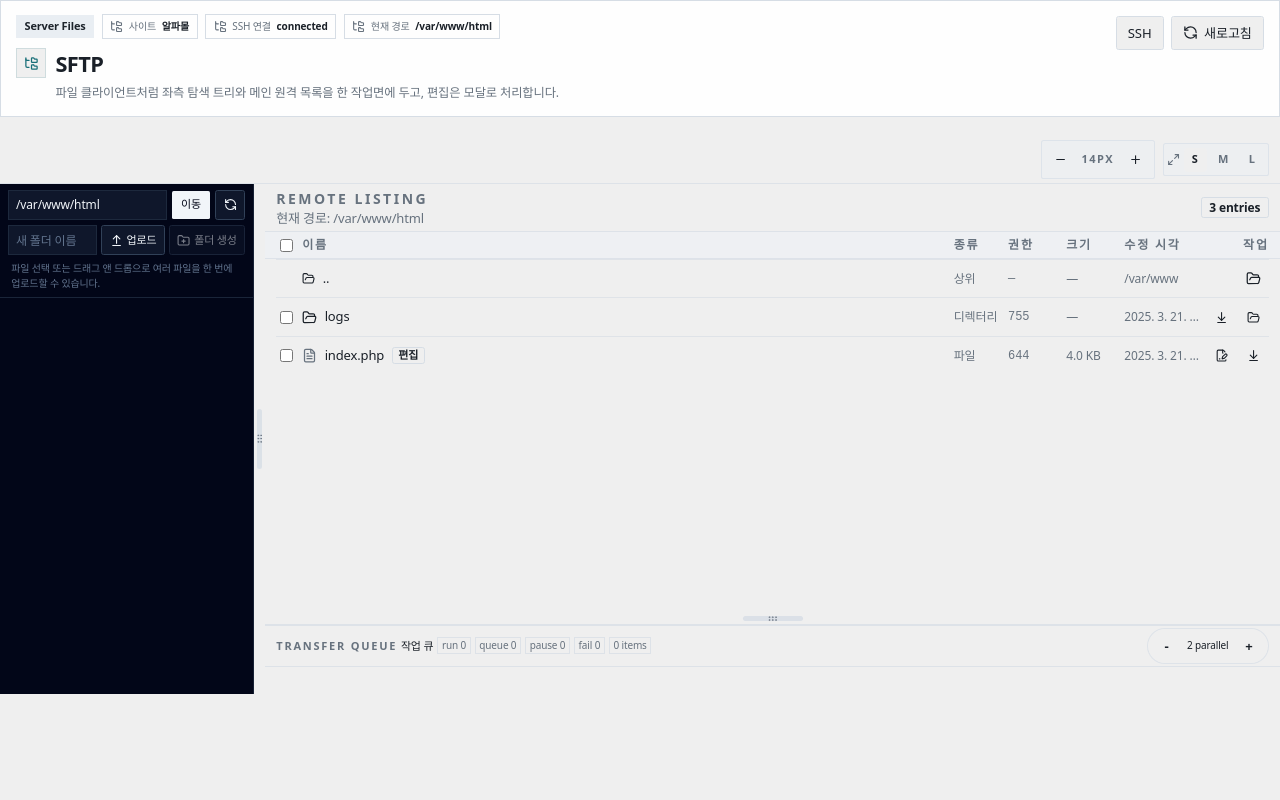
Test: SiteSftpBrowserPage › opens the selected file in the modal editor
Click the button named "index.php 편집": (1222, 356) top-left (1207, 341), bottom-right (1237, 371)
(page scrolled)
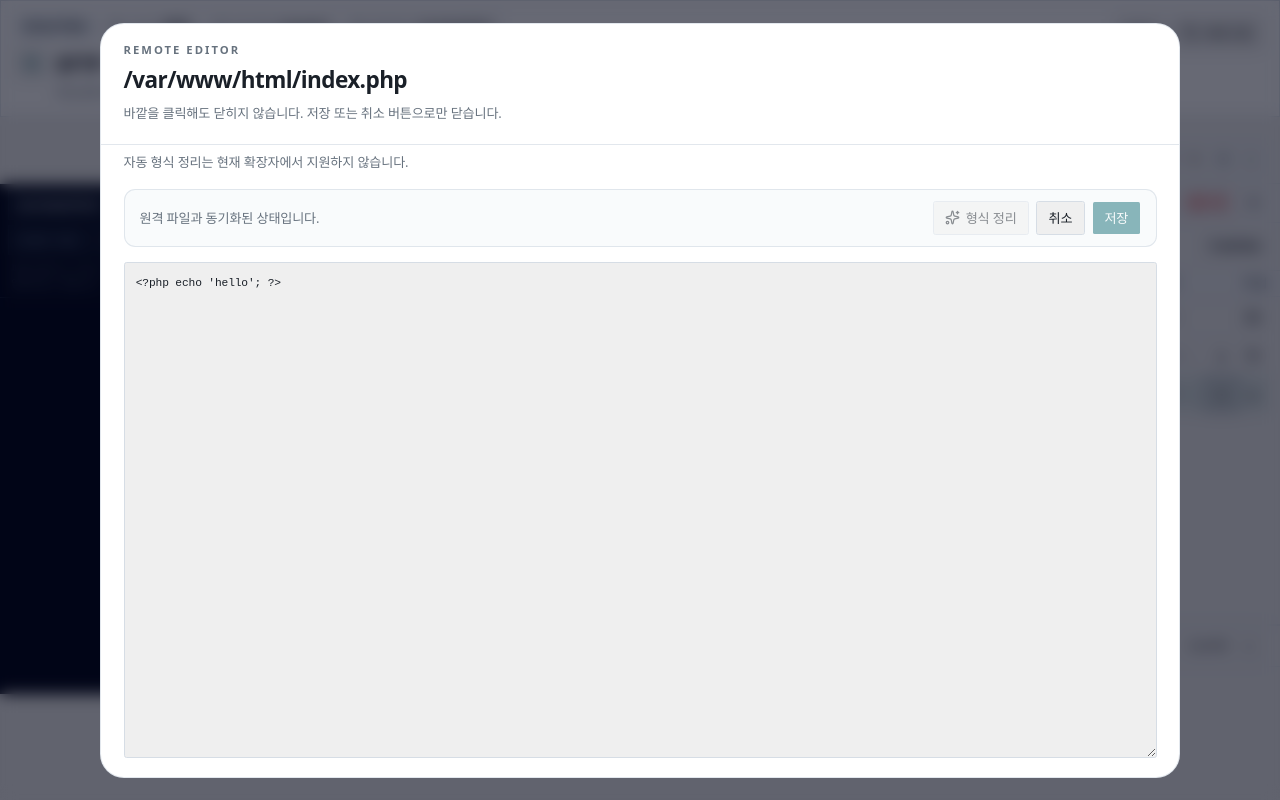
Expected: the heading "/var/www/html/index.php" is shown, top-left (124, 64), bottom-right (407, 95)
Expected: the text box showing "<?php echo 'hello'; ?>" is shown, top-left (124, 262), bottom-right (1156, 758)
